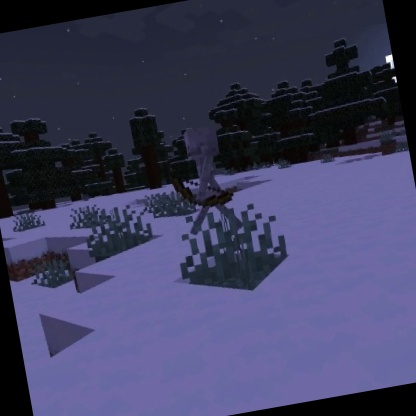skeleton: (160, 118, 245, 240)
